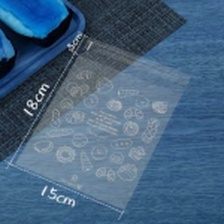snack: (5, 30, 196, 216)
